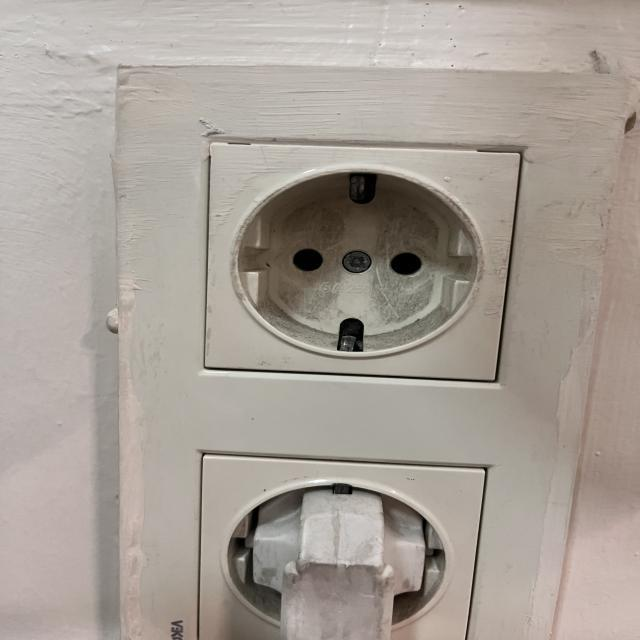pozidriv: (342, 251, 372, 273)
